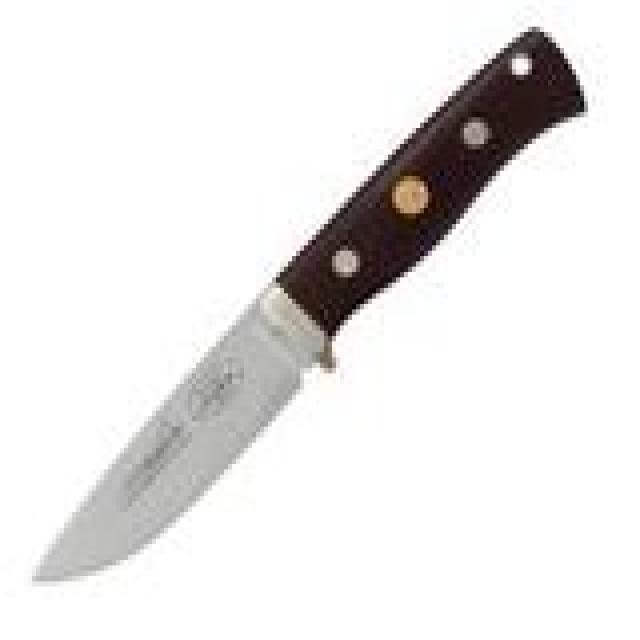Knife: (21, 22, 596, 598)
